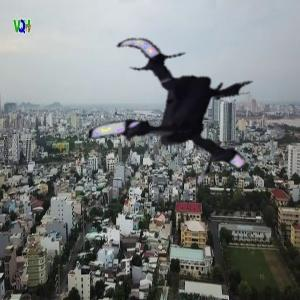drone: (85, 18, 280, 213)
